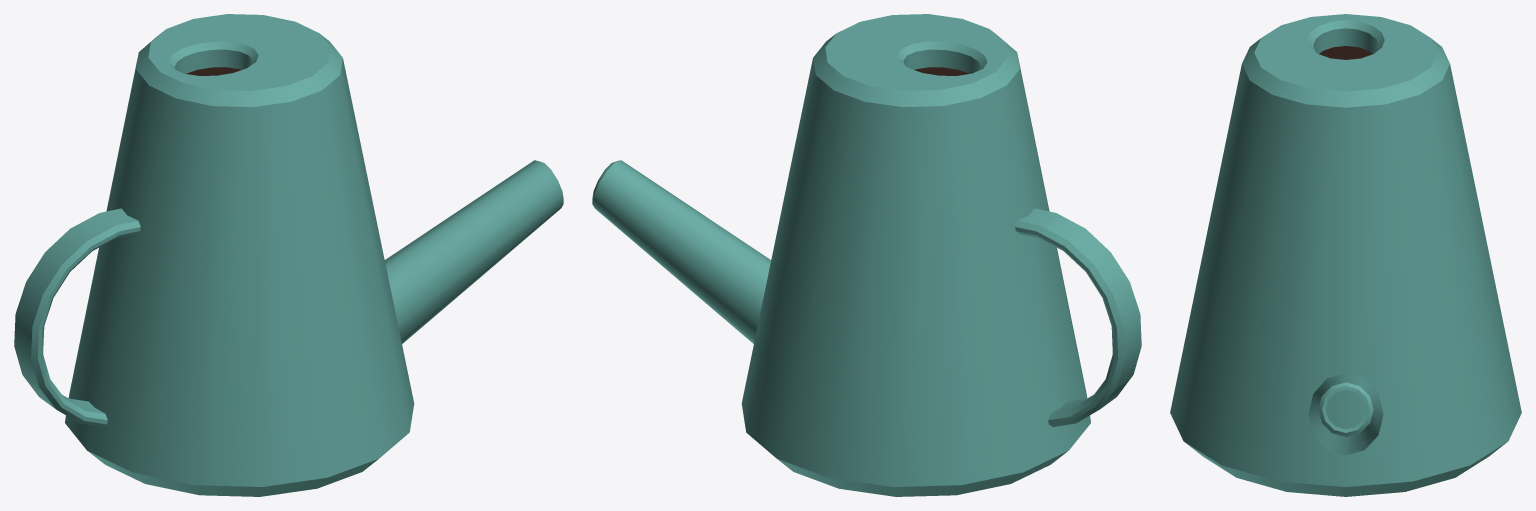
Rendered from SM_Watering_Can.fbx.
3 renders of one model, left to right at view 1: azimuth 30°, elevation 25°; view 2: azimuth 150°, elevation 25°; view 3: azimuth 270°, elevation 25°, orthographic.
Parts seen in each view (by area): view 1: SM_Watering_Can; view 2: SM_Watering_Can; view 3: SM_Watering_Can.
Part boxes in pixels (box(x1,y1,x2,y2)): SM_Watering_Can: box(14, 14, 563, 496); SM_Watering_Can: box(592, 14, 1141, 496); SM_Watering_Can: box(1170, 14, 1521, 496).
Size of the model in its own units: 34.86 by 23.69 by 19.94.
